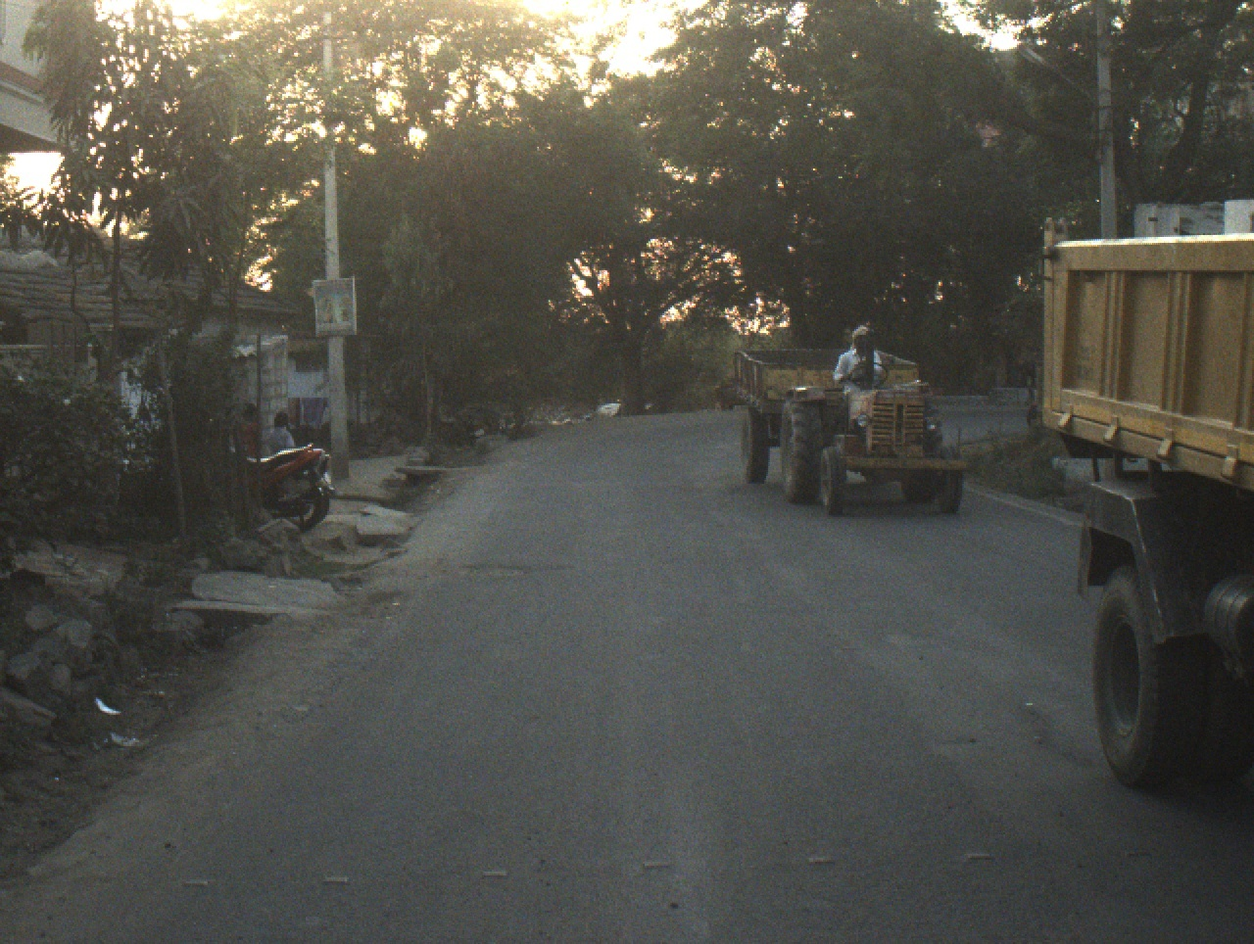motorcycle: (213, 439, 325, 529), (276, 450, 332, 522)
person: (237, 399, 260, 456), (272, 409, 293, 454)
rider: (836, 326, 888, 393)
truck: (1024, 215, 1254, 786)
vehicle fallback: (728, 347, 974, 516), (714, 375, 752, 415)
